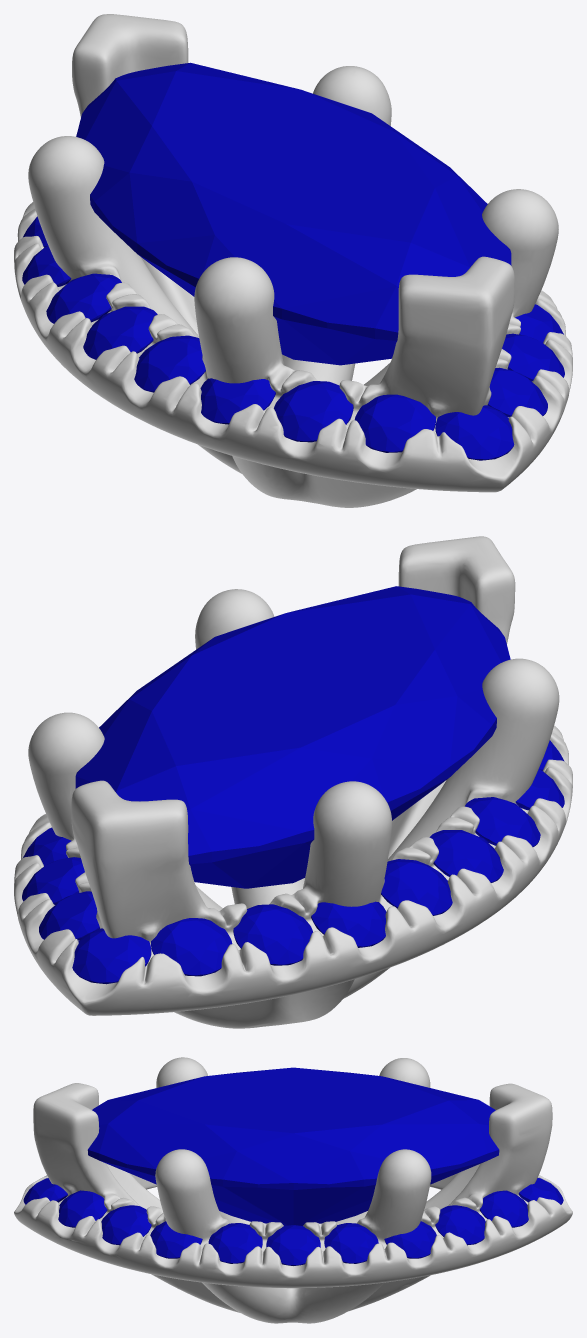
The picture shows the model from 3 angles, top to bottom: view 1: azimuth 30°, elevation 25°; view 2: azimuth 150°, elevation 25°; view 3: azimuth 270°, elevation 25°; orthographic projection. The views are drawn at different scales.
Visible parts, largest first — view 1: /Marquise Single Halo.3dm, Diamond_Marquise, Diamond_Round (×11); view 2: /Marquise Single Halo.3dm, Diamond_Marquise, Diamond_Round (×11); view 3: /Marquise Single Halo.3dm, Diamond_Marquise, Diamond_Round (×11).
Boxes of the visible parts, left/top/right/bottom form: /Marquise Single Halo.3dm: left=14, top=14, right=572, bottom=507; Diamond_Marquise: left=76, top=62, right=511, bottom=365; Diamond_Round (×11): left=22, top=245, right=564, bottom=460; /Marquise Single Halo.3dm: left=14, top=536, right=572, bottom=1028; Diamond_Marquise: left=75, top=586, right=510, bottom=888; Diamond_Round (×11): left=22, top=769, right=564, bottom=984; /Marquise Single Halo.3dm: left=14, top=1057, right=572, bottom=1323; Diamond_Marquise: left=87, top=1067, right=499, bottom=1226; Diamond_Round (×11): left=23, top=1178, right=563, bottom=1265.
Bounding box in the file's own units: 8.74 × 6.56 × 15.04.
